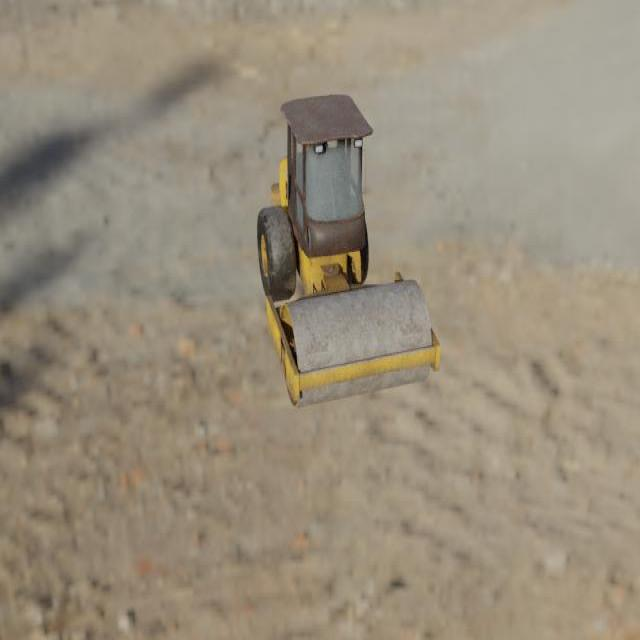Roller: (256, 93, 441, 408)
